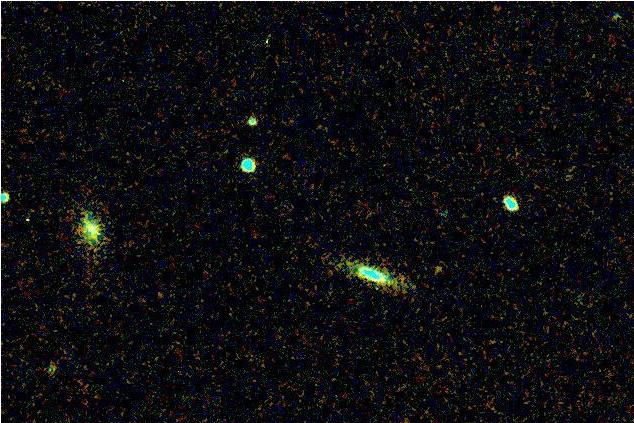star: (422, 257, 452, 287)
